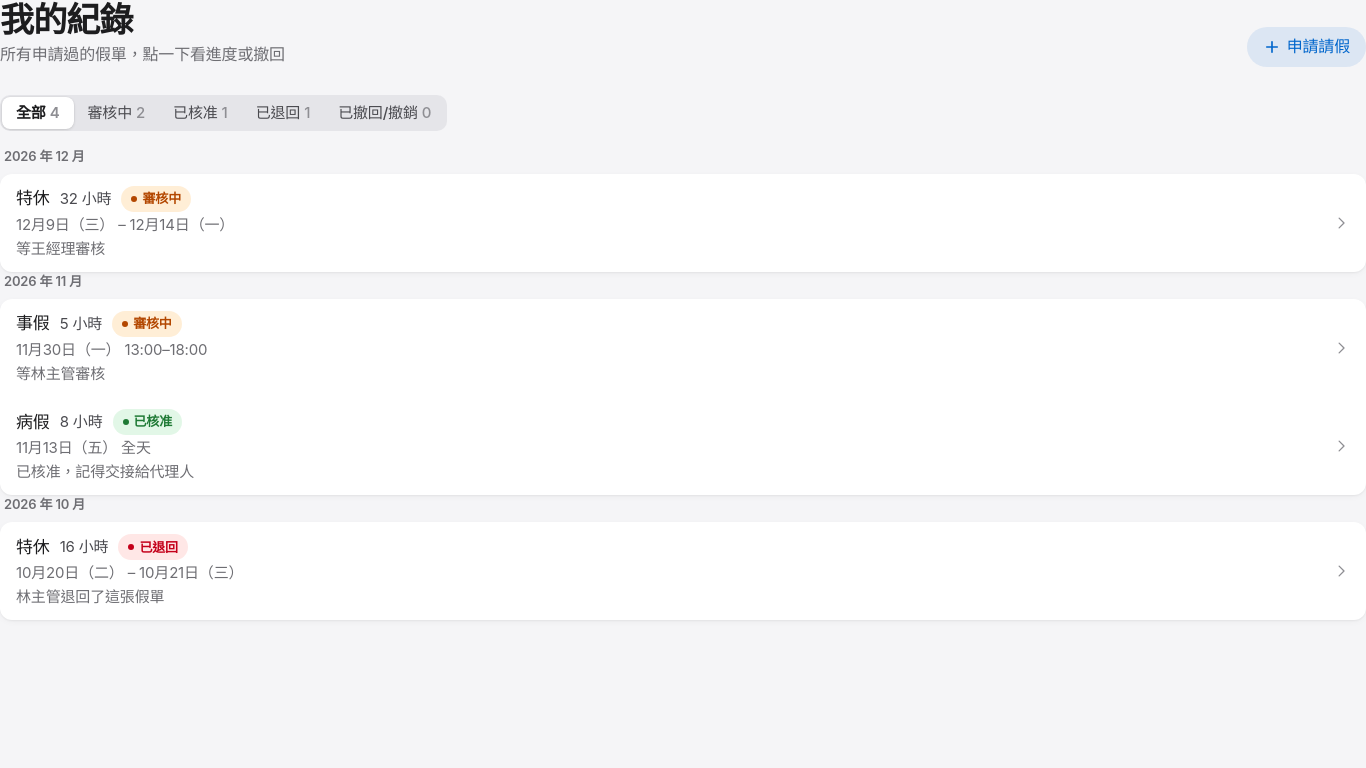
Test: RecordsPage › shows the rejection reason
The image size is (1366, 768).
Expected: the heading "我的紀錄" is shown, [0,0,133,40]
Click the button "已退回" at (33,547), box [0,522,1365,620]
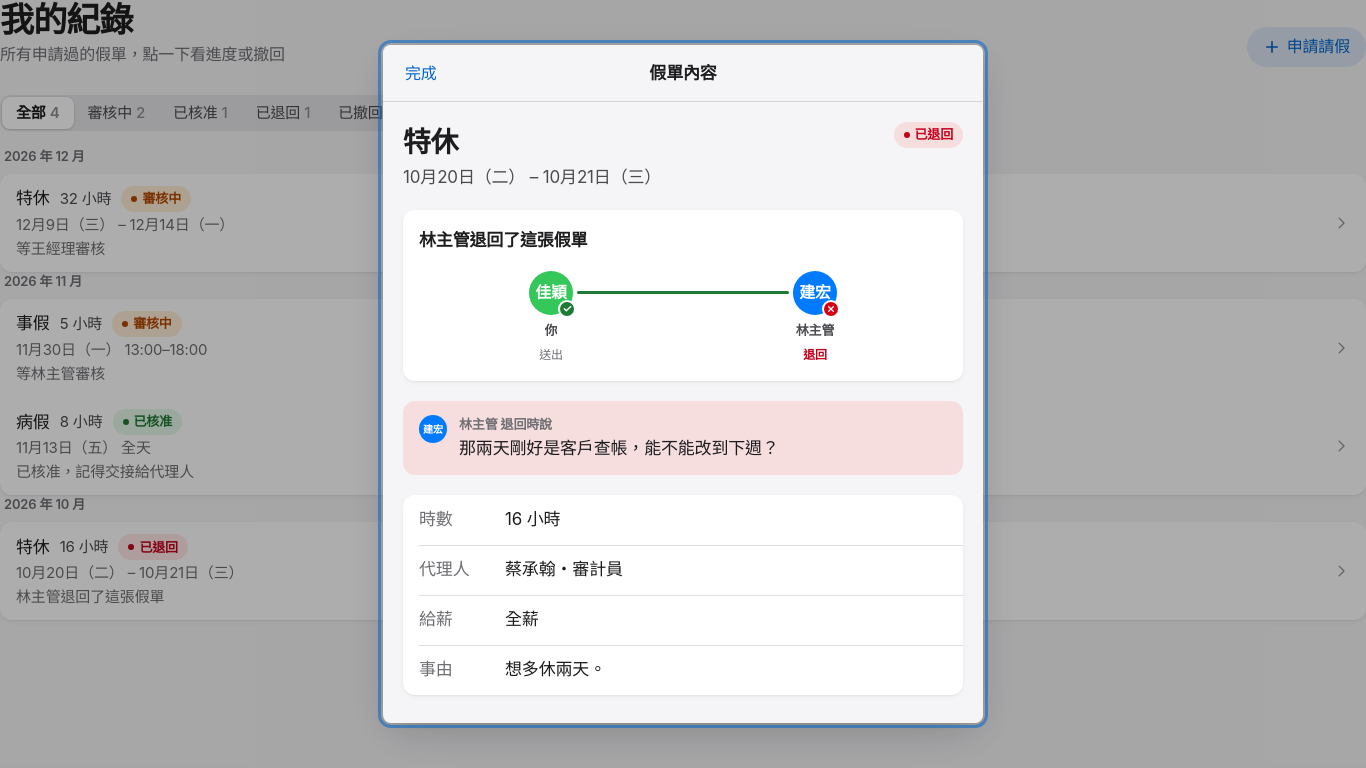
Result: the text "那兩天剛好是客戶查帳，能不能改到下週？" is shown at [459,436,779,462]
